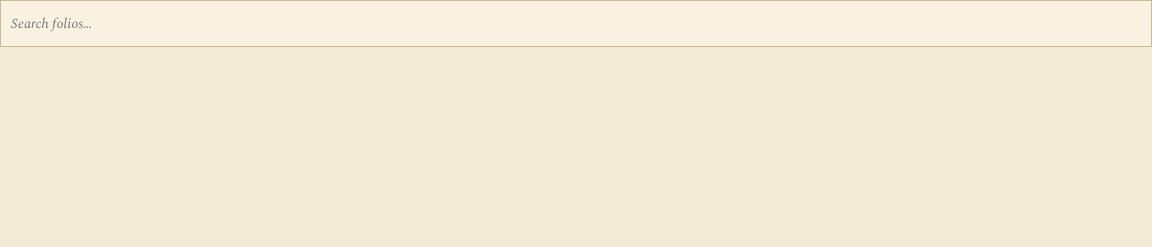
Test: WikilinkListField candidates › shows the folder column only when candidates can span folders
The width and height of the screenshot is (1152, 247).
Later steps or results of the test are not shown.
Click the dropdown named "Allies" at coordinates (576, 24), box [11,8,1141,39]
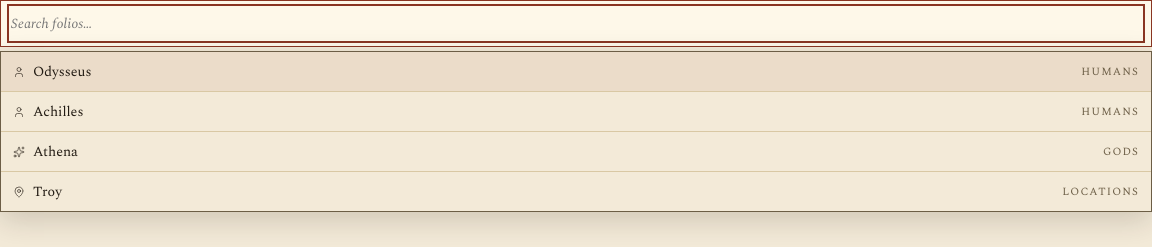
Now the option "Athena Gods" is shown, box [1,132,1151,172]
